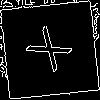X: (25, 25, 82, 80)
